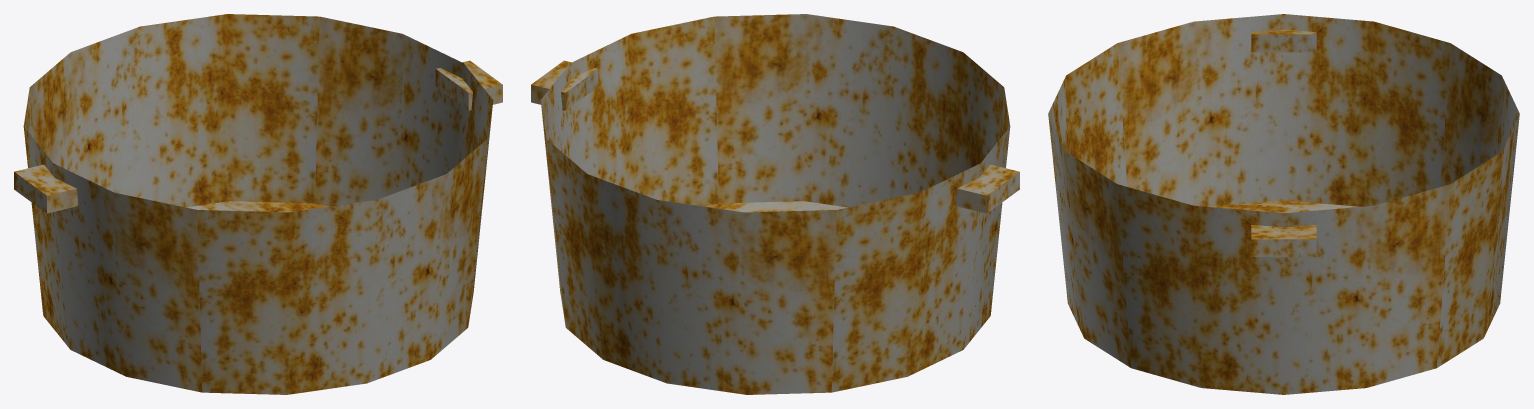
The model's file is washtub.glb.
3 renders of one model, left to right at view 1: azimuth 30°, elevation 25°; view 2: azimuth 150°, elevation 25°; view 3: azimuth 270°, elevation 25°, orthographic.
Parts seen in each view (by area): view 1: washtub; view 2: washtub; view 3: washtub.
Part boxes in pixels (x1,y1,x2,y2): washtub: (14,14,502,394); washtub: (531,14,1019,394); washtub: (1048,14,1519,394).
Size of the model in its own units: 0.8 by 0.32 by 0.72.
Materials: 1 (1 with a texture image).
